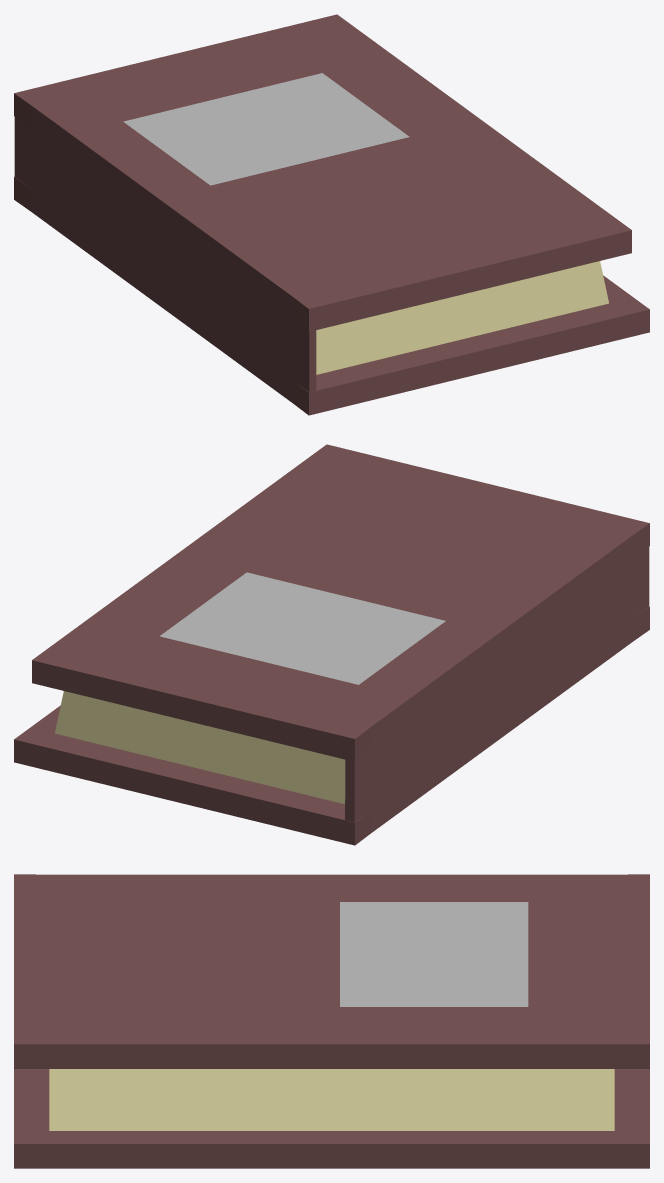
Rendered from Livre.fbx.
3 renders of one model, top to bottom at view 1: azimuth 30°, elevation 25°; view 2: azimuth 150°, elevation 25°; view 3: azimuth 270°, elevation 25°, orthographic. The views are drawn at different scales.
Parts seen in each view (by area): view 1: pCube27; view 2: pCube27; view 3: pCube27.
Part boxes in pixels (bbox=[...]): pCube27: bbox=[14, 14, 649, 415]; pCube27: bbox=[14, 444, 649, 845]; pCube27: bbox=[14, 874, 649, 1168].
Bounding box in the file's own units: 38.47 × 11.48 × 57.62.
